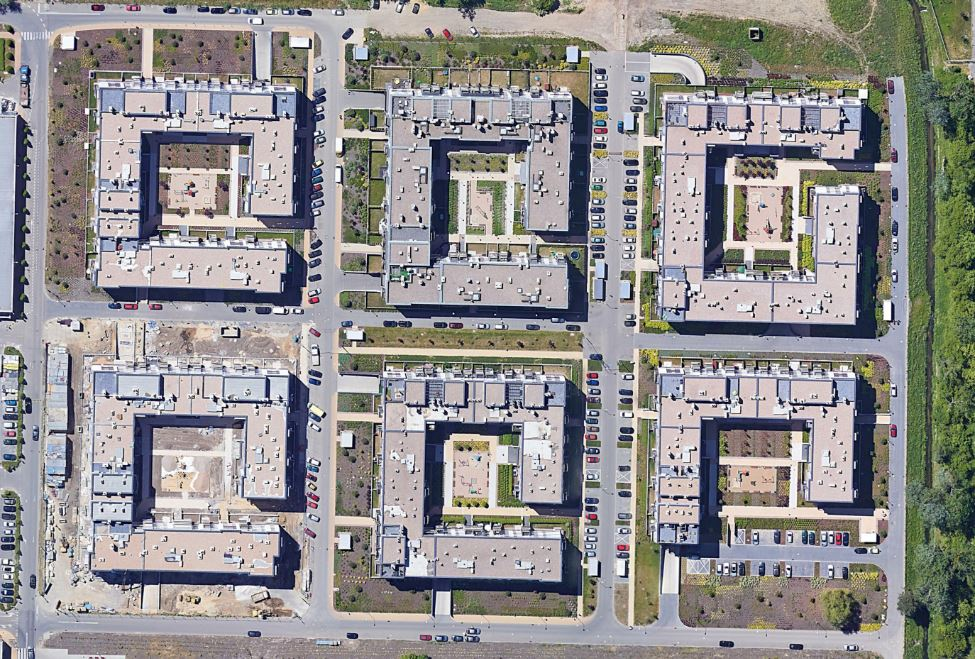block of flats: (371, 81, 597, 319), (648, 93, 874, 331), (78, 355, 304, 593), (85, 76, 306, 302), (365, 369, 579, 593), (653, 359, 862, 554)
